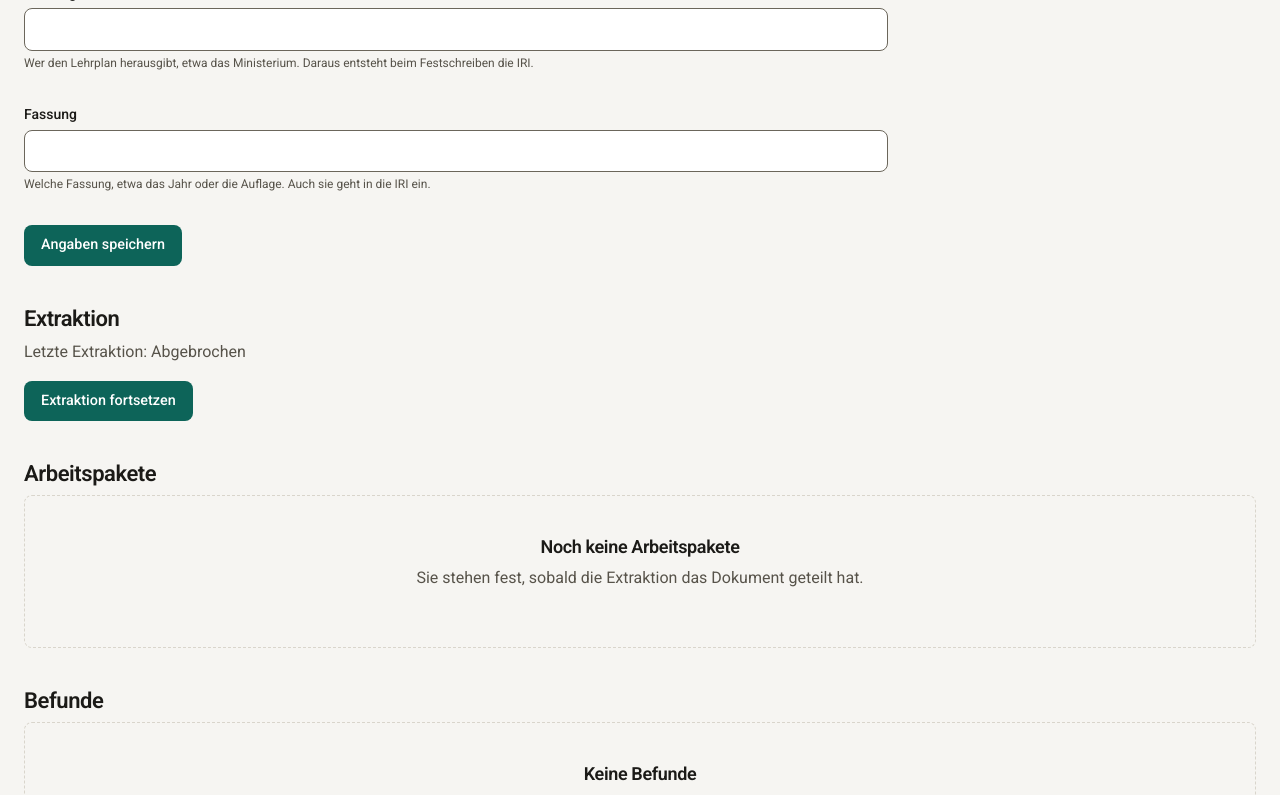
Test: a document's page › says a check the start met as one, by its own kind
(page scrolled)
Click the button with test id "extraction-resume". click: [108, 401]
box: 24,381 -> 193,421
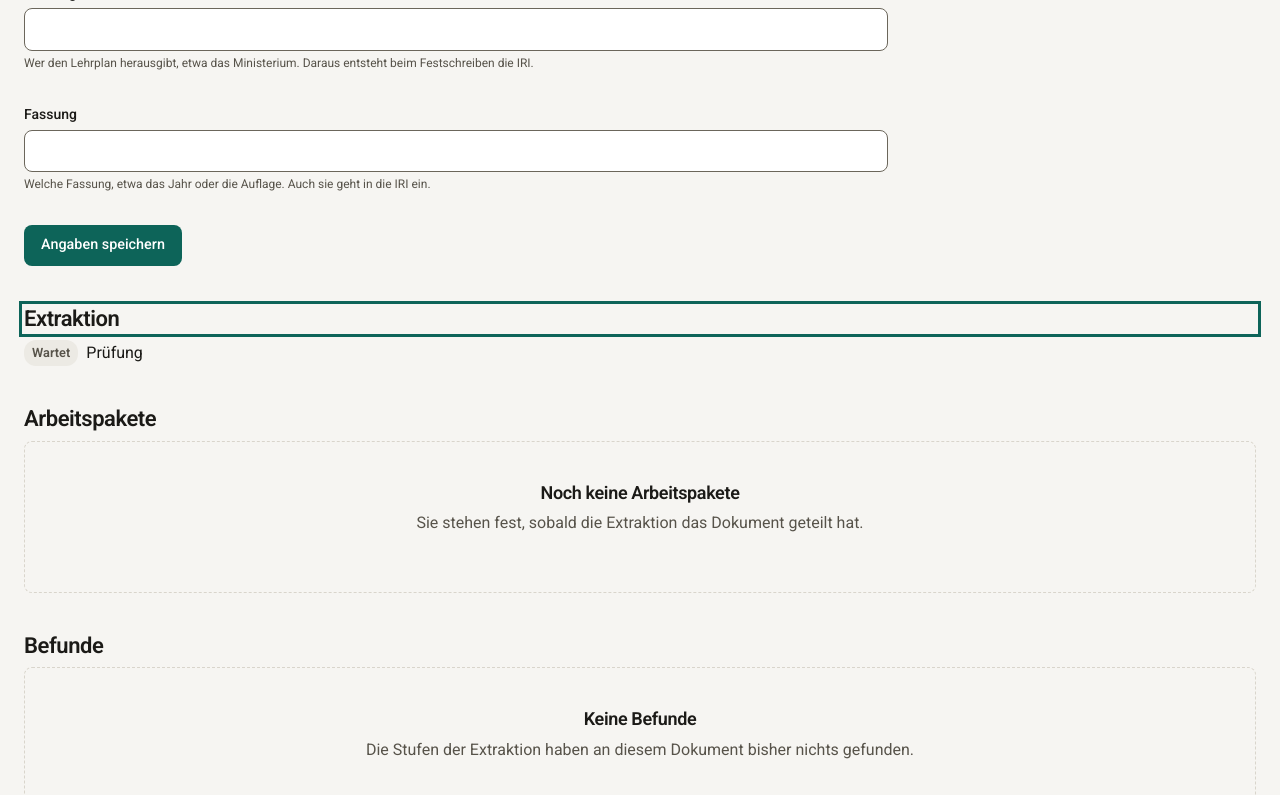
Now the text with class "job__label" reads "Prüfung", box 86,343 -> 143,362
